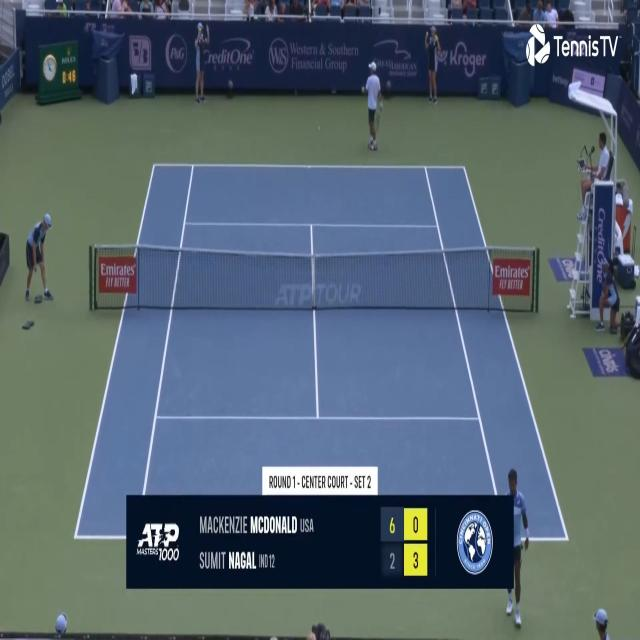tennis-player: (504, 464, 532, 631), (360, 60, 384, 153)
